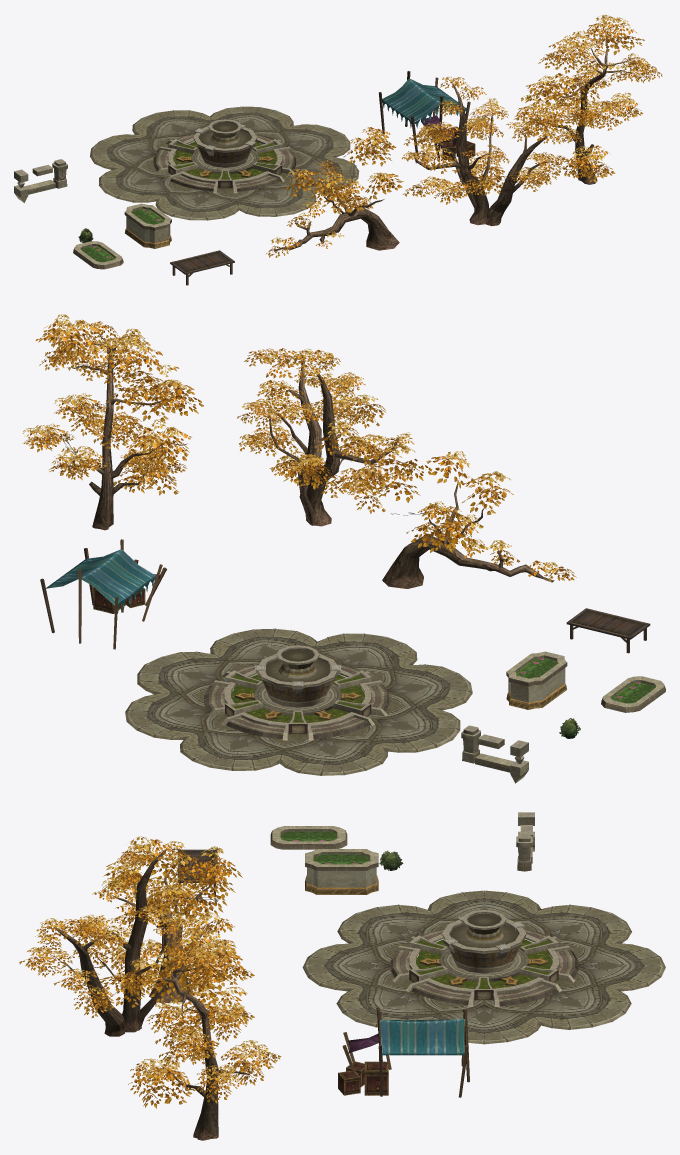
The model's file is wjall1.fbx.
3 views of the same model, one above another, from view 1: azimuth 30°, elevation 25°; view 2: azimuth 150°, elevation 25°; view 3: azimuth 270°, elevation 25° (orthographic). The views are drawn at different scales.
Parts seen in each view (by area): view 1: wj_a4, yellow_tree2, yellow_tree3, wj_a6, yellow_tree1, wj_a8, wj_a5, wj_a1, wj_a2; view 2: wj_a4, yellow_tree3, yellow_tree2, wj_a6, yellow_tree1, wj_a8, wj_a5, wj_a1, wj_a2; view 3: wj_a4, yellow_tree2, yellow_tree3, wj_a6, yellow_tree1, wj_a8, wj_a5, wj_a1, wj_a3, wj_a2, wj_a9.
Part boxes in pixels (x1,y1,x2,y2): wj_a4: (90, 106, 359, 220); yellow_tree2: (401, 76, 569, 225); yellow_tree3: (514, 14, 662, 184); wj_a6: (153, 119, 295, 193); yellow_tree1: (266, 127, 403, 257); wj_a8: (378, 71, 470, 158); wj_a5: (124, 203, 171, 248); wj_a1: (73, 241, 123, 269); wj_a2: (170, 250, 234, 285); wj_a4: (125, 628, 472, 775); yellow_tree3: (22, 314, 203, 530); yellow_tree2: (237, 348, 414, 526); wj_a6: (204, 645, 389, 740); yellow_tree1: (348, 444, 576, 588); wj_a8: (40, 539, 166, 649); wj_a5: (506, 651, 567, 709); wj_a1: (601, 676, 665, 712); wj_a2: (566, 608, 650, 653); wj_a4: (302, 890, 665, 1044); yellow_tree2: (19, 841, 234, 1036); yellow_tree3: (123, 927, 281, 1140); wj_a6: (390, 910, 578, 1006); yellow_tree1: (102, 836, 242, 1003); wj_a8: (342, 1007, 469, 1097); wj_a5: (305, 849, 378, 894); wj_a1: (270, 826, 347, 849); wj_a3: (338, 1061, 388, 1095); wj_a2: (177, 849, 217, 896); wj_a9: (516, 833, 532, 871).
Bounding box in the file's own units: 4331 × 1301 × 3534.
